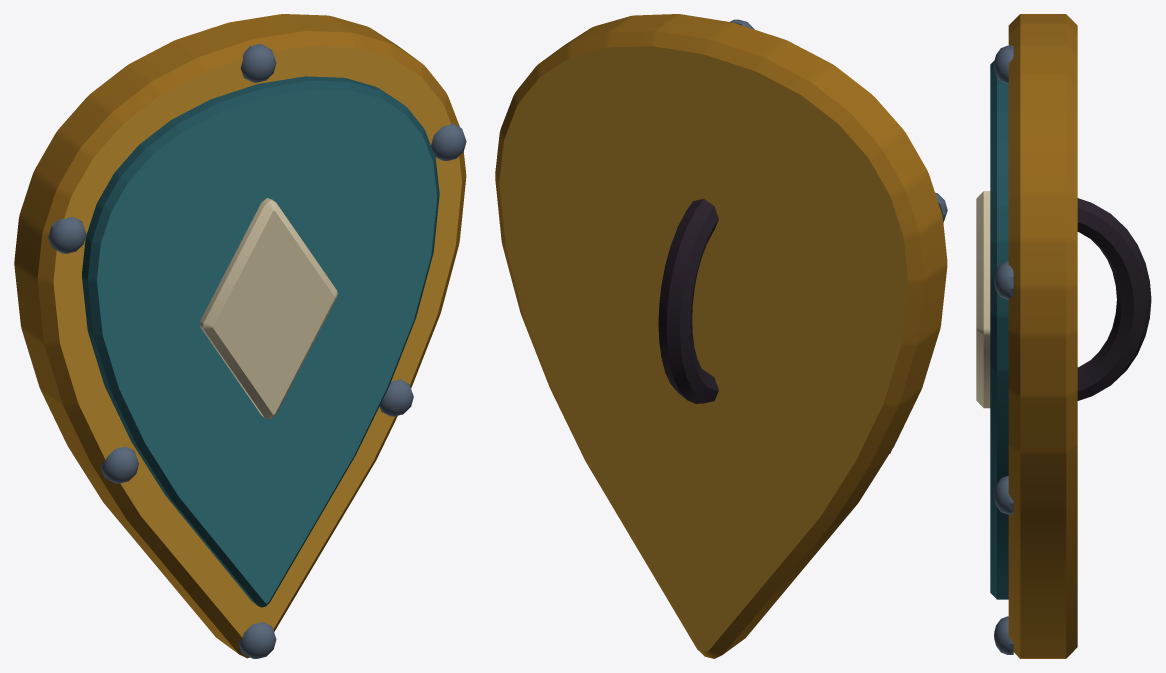
Rendered from KiteShield_04.glb.
3 views of the same model, side by side, from view 1: azimuth 30°, elevation 25°; view 2: azimuth 150°, elevation 25°; view 3: azimuth 270°, elevation 25° (orthographic).
Parts seen in each view (by area): view 1: KiteShield_04; view 2: KiteShield_04; view 3: KiteShield_04.
Boxes of the visible parts, left/top/right/bottom form: KiteShield_04: left=14, top=14, right=466, bottom=658; KiteShield_04: left=495, top=14, right=947, bottom=658; KiteShield_04: left=976, top=14, right=1151, bottom=658.
Size of the model in its own units: 2.13 by 2.93 by 0.76.
